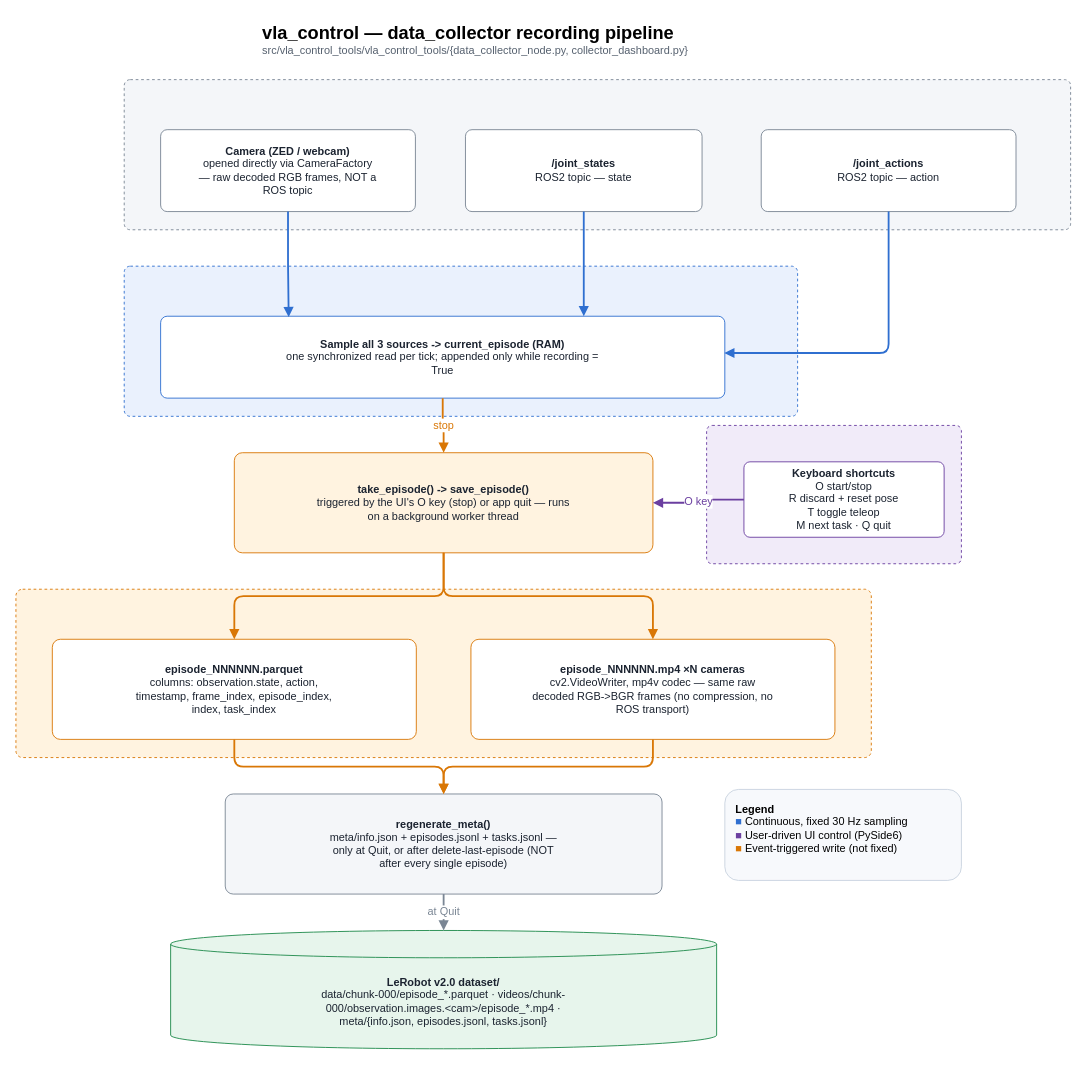
Image size: 1087x1065. Some labels were removed from this diagram. The box of each missing label's shape, as (x1, y1, x2, y2) in pixels:
collection_loop() — background thread, fixed 30 Hz (control_hz): (123, 265, 798, 416)
Dashboard UI (PySide6): (706, 425, 961, 564)
Inputs — sampled every tick: (123, 79, 1071, 230)
save_episode() — worker thread (event-triggered write, NOT a fixed schedule): (15, 588, 871, 758)
